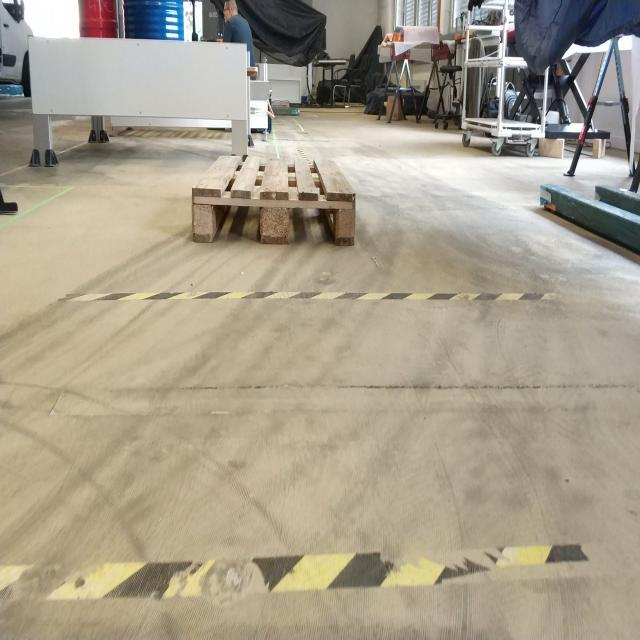block: (259, 190, 290, 246), (190, 185, 215, 246), (331, 189, 356, 248)
front: (189, 180, 356, 249)
